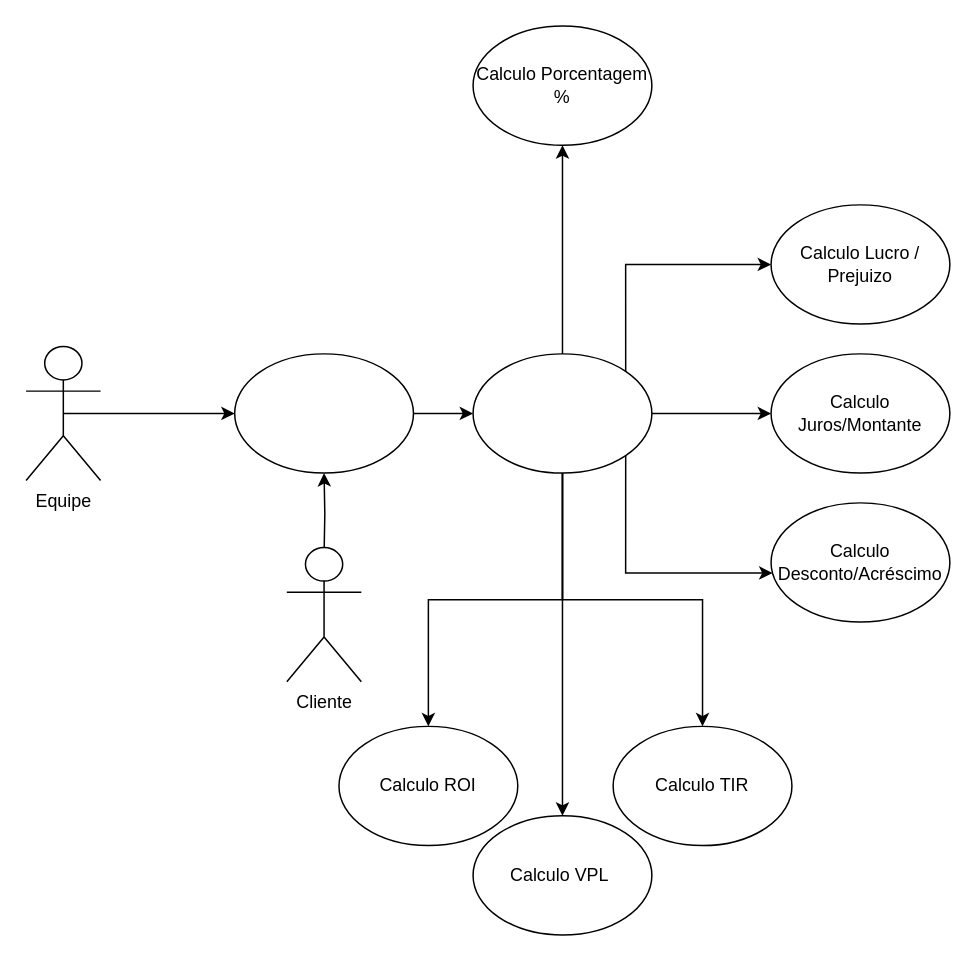
The diagram is 976 pixels wide and 961 high, and some of its shapes have lost their labels. Here are the shapes that lost their labels. From the top down, the centre of each, then its label:
point (323, 412): Matematica Financeira App
point (562, 412): Matematica financeira (menu principal)
